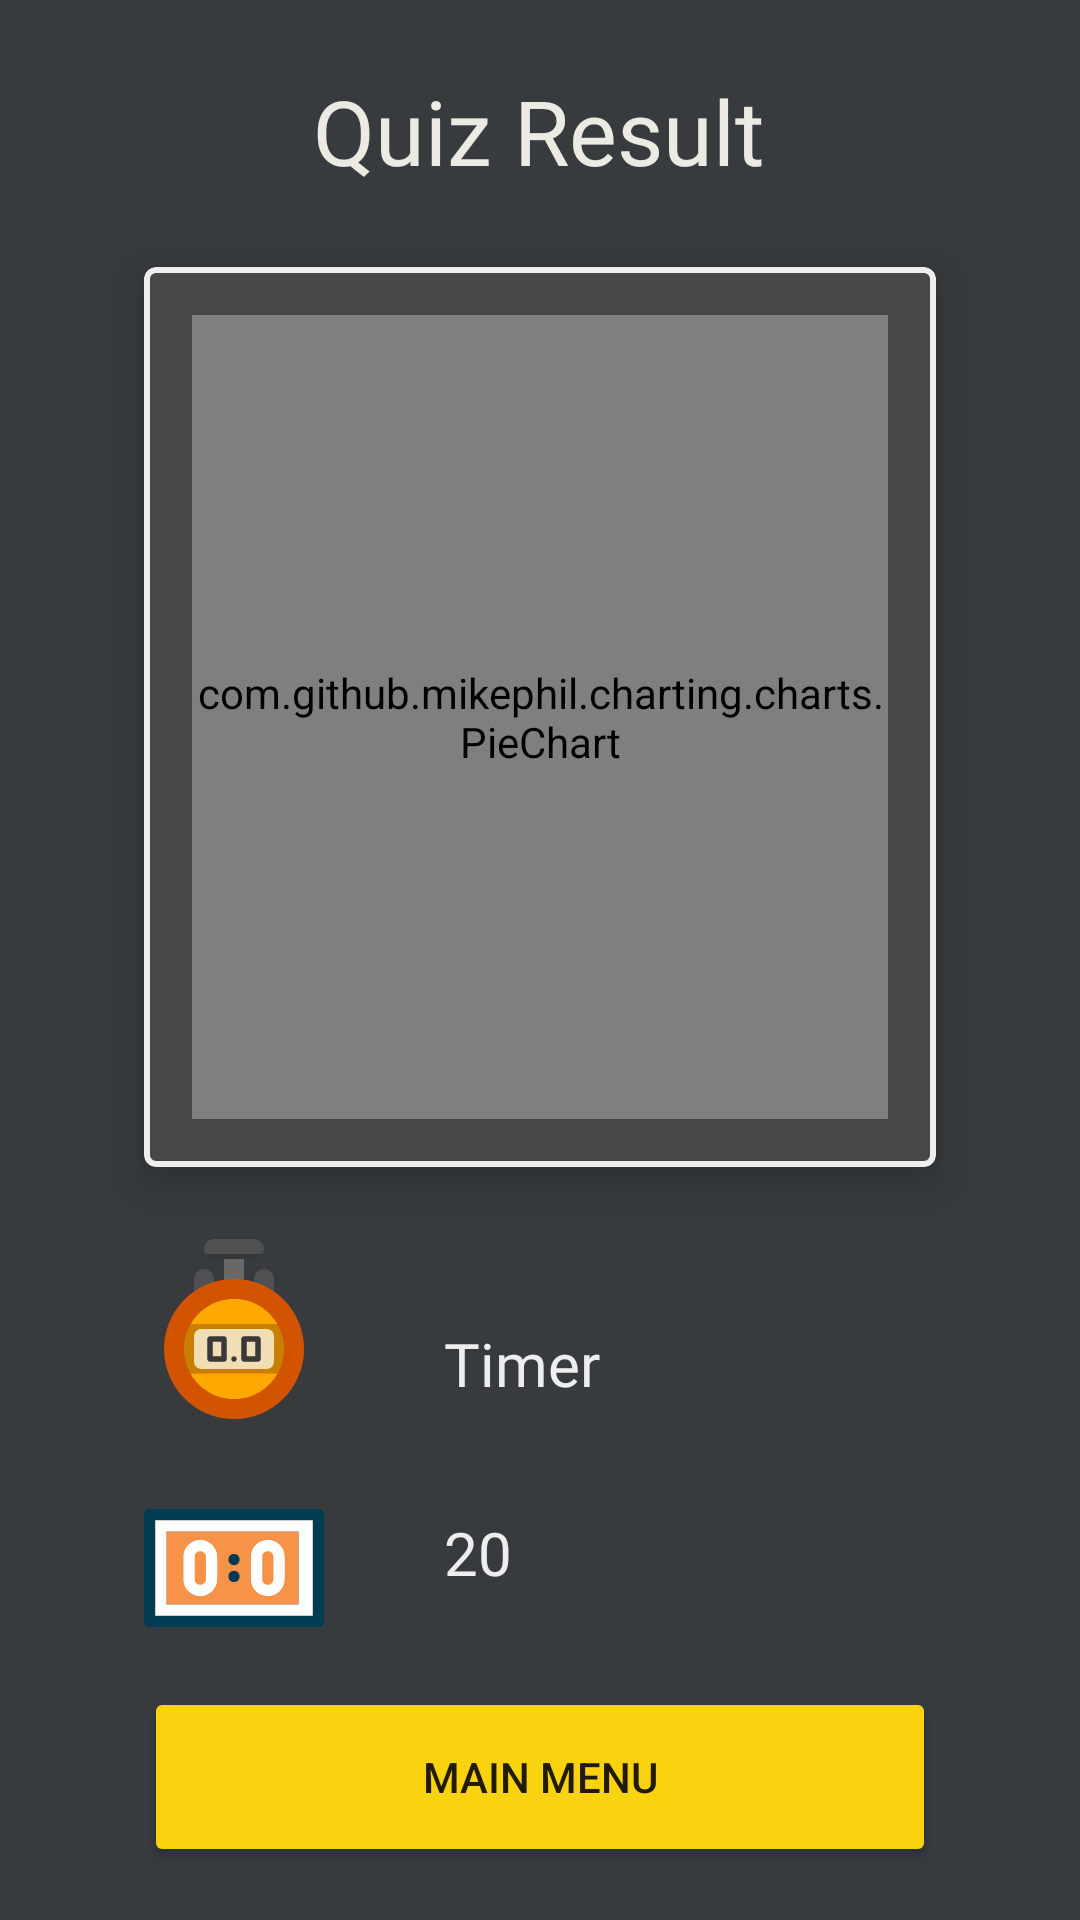

Where icons sit on this 1080w x 1920h app screen, as (left=x1, top=y1, right=x2, bottom=y2):
scoreboard: (left=144, top=1509, right=324, bottom=1627)
stopwatch: (left=164, top=1259, right=304, bottom=1419)
